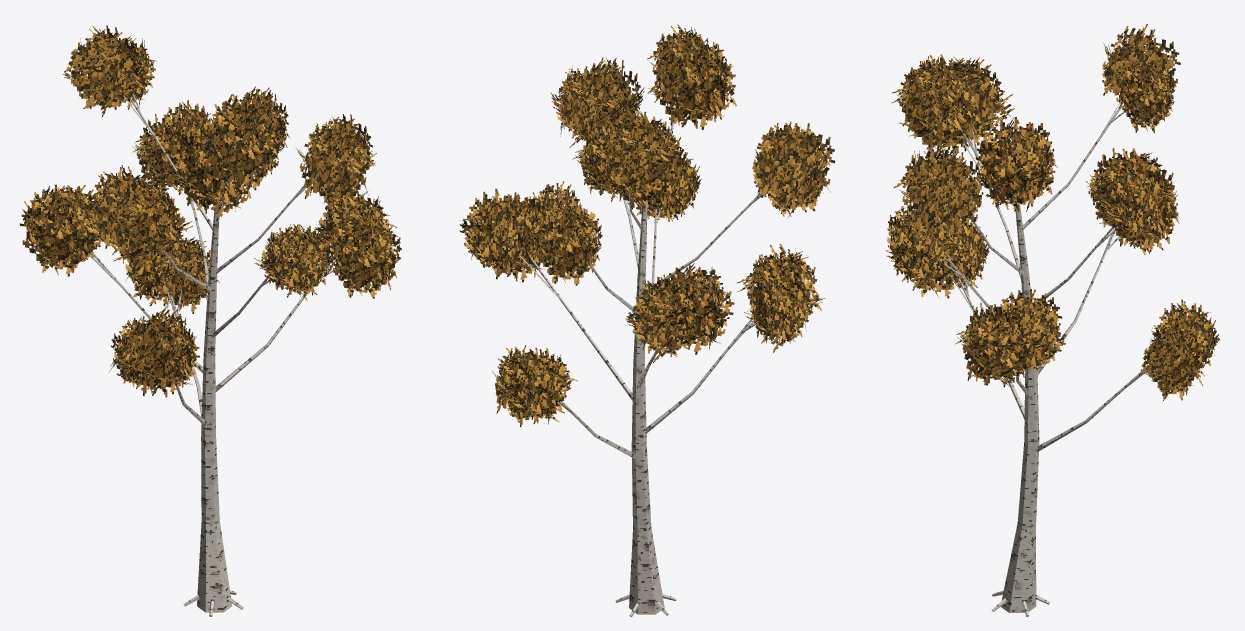
File: TREE_Birch_Autumn_A_LOD1.glb
3 renders of one model, left to right at view 1: azimuth 30°, elevation 25°; view 2: azimuth 150°, elevation 25°; view 3: azimuth 270°, elevation 25°, orthographic.
Visible parts, largest first — view 1: TREE_Birch_Autumn_A_LOD1__Card, TREE_Birch_Autumn_A_LOD1__Bark, TREE_Birch_Autumn_A_LOD1__Foliage; view 2: TREE_Birch_Autumn_A_LOD1__Card, TREE_Birch_Autumn_A_LOD1__Bark, TREE_Birch_Autumn_A_LOD1__Foliage; view 3: TREE_Birch_Autumn_A_LOD1__Card, TREE_Birch_Autumn_A_LOD1__Bark, TREE_Birch_Autumn_A_LOD1__Foliage.
Part boxes in pixels (x1,y1,x2,y2): TREE_Birch_Autumn_A_LOD1__Card: [19, 25, 401, 397]; TREE_Birch_Autumn_A_LOD1__Bark: [89, 93, 338, 616]; TREE_Birch_Autumn_A_LOD1__Foliage: [46, 57, 379, 365]; TREE_Birch_Autumn_A_LOD1__Card: [459, 24, 835, 426]; TREE_Birch_Autumn_A_LOD1__Bark: [508, 93, 764, 616]; TREE_Birch_Autumn_A_LOD1__Foliage: [486, 63, 804, 396]; TREE_Birch_Autumn_A_LOD1__Card: [885, 24, 1219, 400]; TREE_Birch_Autumn_A_LOD1__Bark: [944, 100, 1153, 616]; TREE_Birch_Autumn_A_LOD1__Foliage: [908, 54, 1195, 375].
Bounding box in the file's own units: 7.95 × 11.83 × 6.87.
3 materials, 3 textured.
